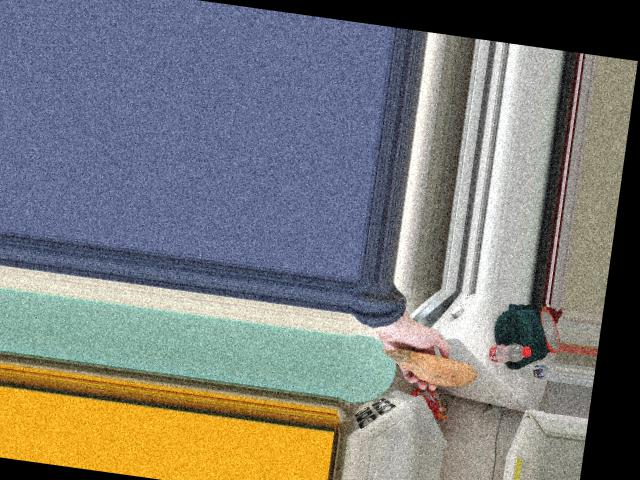sweet_potato: (389, 345, 470, 389)
